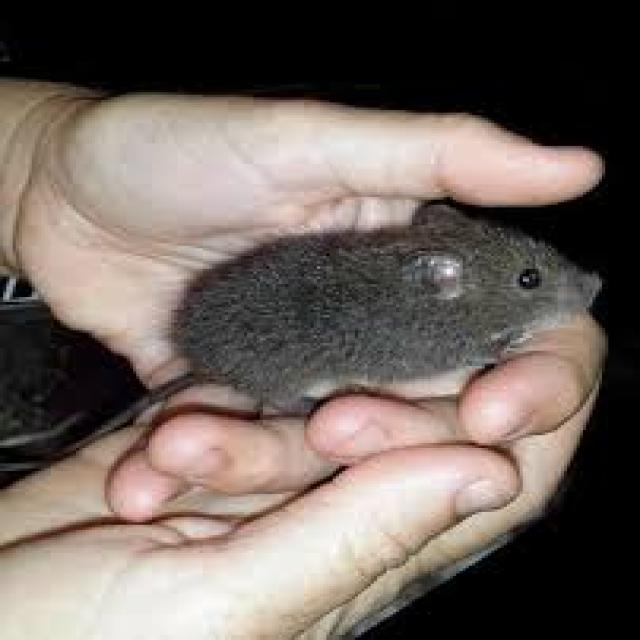rat: (162, 200, 605, 420)
